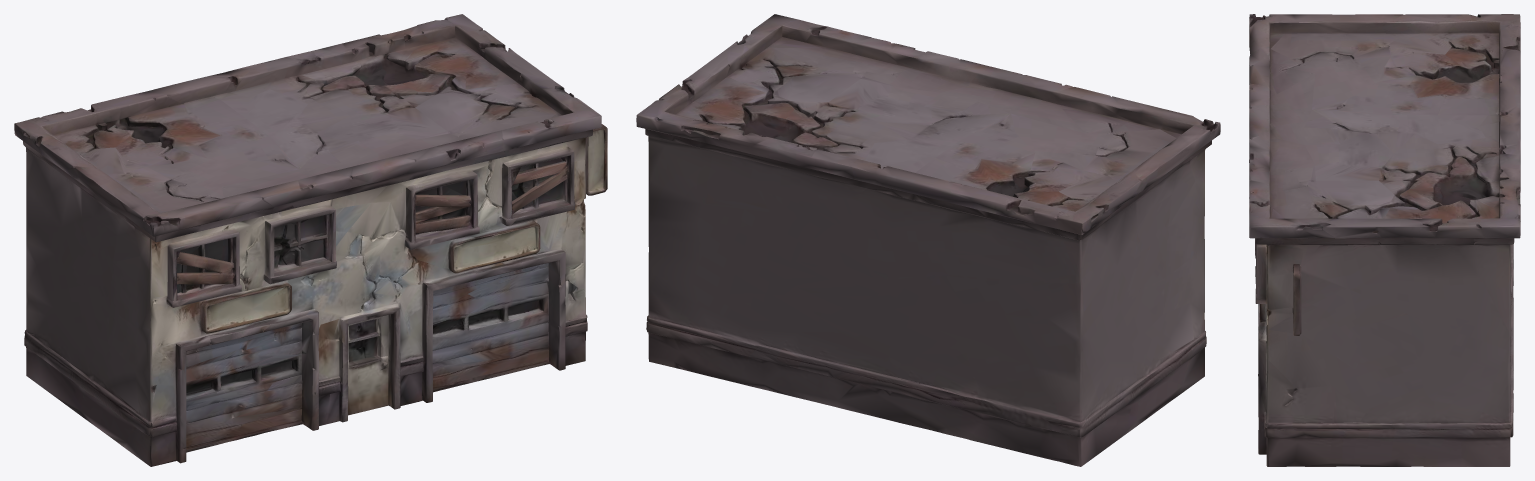
File: fire_station_idle.glb
The picture shows the model from 3 angles, left to right: view 1: azimuth 30°, elevation 25°; view 2: azimuth 150°, elevation 25°; view 3: azimuth 270°, elevation 25°; orthographic projection. The views are drawn at different scales.
Visible parts, largest first — view 1: tripo_node_ccebf8e4-b1ab-448c-b34e-8ff1bbcebe64; view 2: tripo_node_ccebf8e4-b1ab-448c-b34e-8ff1bbcebe64; view 3: tripo_node_ccebf8e4-b1ab-448c-b34e-8ff1bbcebe64.
Part boxes in pixels (bbox=[...]): tripo_node_ccebf8e4-b1ab-448c-b34e-8ff1bbcebe64: bbox=[14, 14, 607, 466]; tripo_node_ccebf8e4-b1ab-448c-b34e-8ff1bbcebe64: bbox=[636, 14, 1220, 466]; tripo_node_ccebf8e4-b1ab-448c-b34e-8ff1bbcebe64: bbox=[1249, 14, 1520, 466].
Size of the model in its own units: 14 by 7.03 by 7.09.
Materials: 1 (1 with a texture image).
